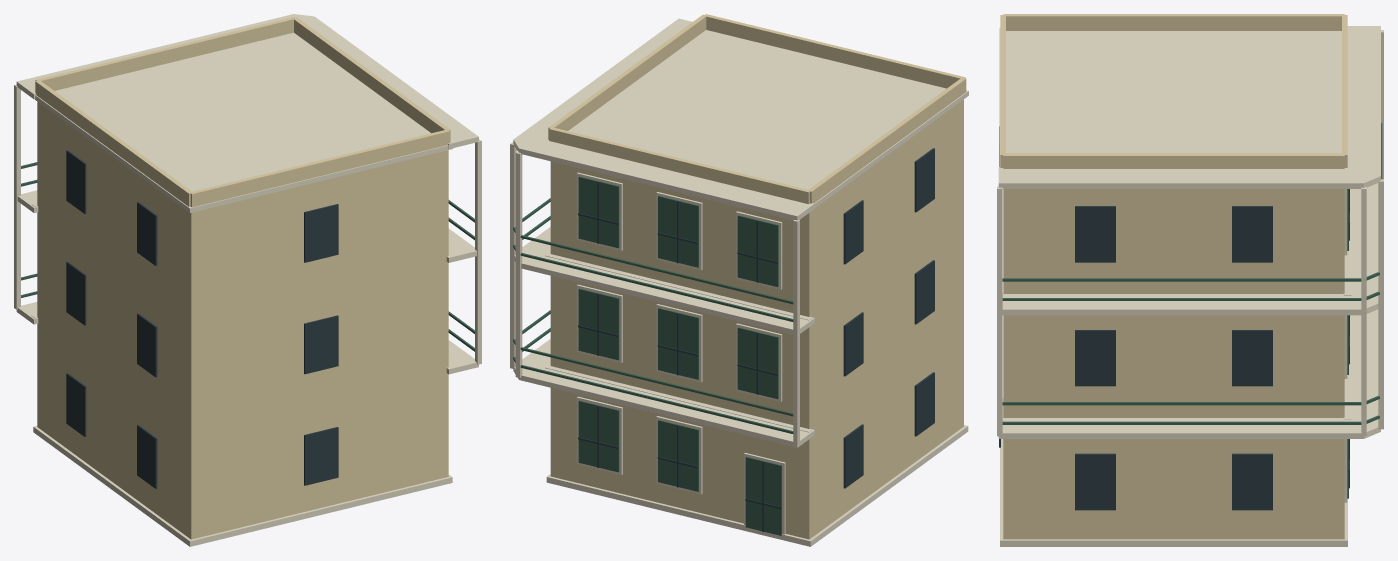
Rendered from KOL_T3_OLD_07.fbx.
The picture shows the model from 3 angles, left to right: view 1: azimuth 30°, elevation 25°; view 2: azimuth 150°, elevation 25°; view 3: azimuth 270°, elevation 25°; orthographic projection. The views are drawn at different scales.
Parts seen in each view (by area): view 1: KOL_T3_OLD_07__Body, KOL_T3_OLD_07__Trim, KOL_T3_OLD_07__Dark, KOL_T3_OLD_07__Accent; view 2: KOL_T3_OLD_07__Body, KOL_T3_OLD_07__Trim, KOL_T3_OLD_07__Accent, KOL_T3_OLD_07__Dark; view 3: KOL_T3_OLD_07__Body, KOL_T3_OLD_07__Trim, KOL_T3_OLD_07__Dark, KOL_T3_OLD_07__Accent.
Boxes of the visible parts, bbox=[...] form: KOL_T3_OLD_07__Body: bbox=[35, 17, 450, 539]; KOL_T3_OLD_07__Trim: bbox=[14, 14, 481, 546]; KOL_T3_OLD_07__Dark: bbox=[66, 150, 338, 488]; KOL_T3_OLD_07__Accent: bbox=[21, 162, 474, 351]; KOL_T3_OLD_07__Body: bbox=[548, 14, 966, 539]; KOL_T3_OLD_07__Trim: bbox=[510, 18, 968, 546]; KOL_T3_OLD_07__Accent: bbox=[513, 176, 793, 535]; KOL_T3_OLD_07__Dark: bbox=[578, 148, 934, 531]; KOL_T3_OLD_07__Body: bbox=[1000, 14, 1347, 539]; KOL_T3_OLD_07__Trim: bbox=[997, 26, 1383, 546]; KOL_T3_OLD_07__Dark: bbox=[999, 126, 1349, 510]; KOL_T3_OLD_07__Accent: bbox=[1002, 123, 1382, 498].
Size of the model in its own units: 33.08 by 37.9 by 33.98.
